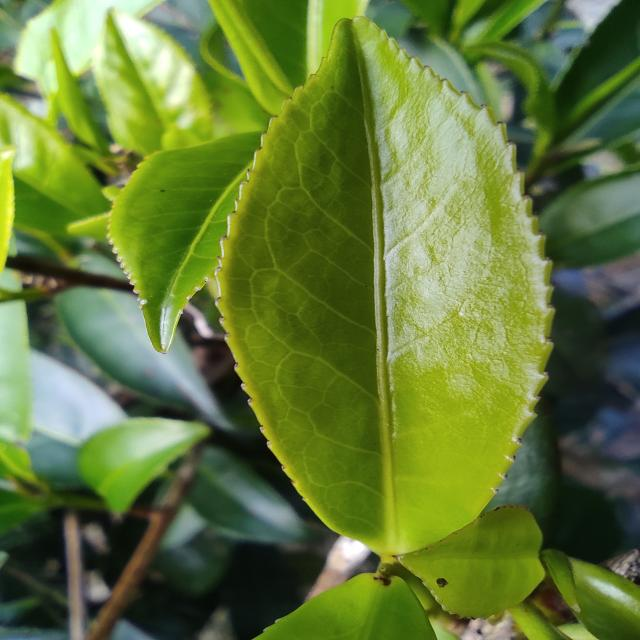Category B(2-4 days): (200, 1, 568, 566)
